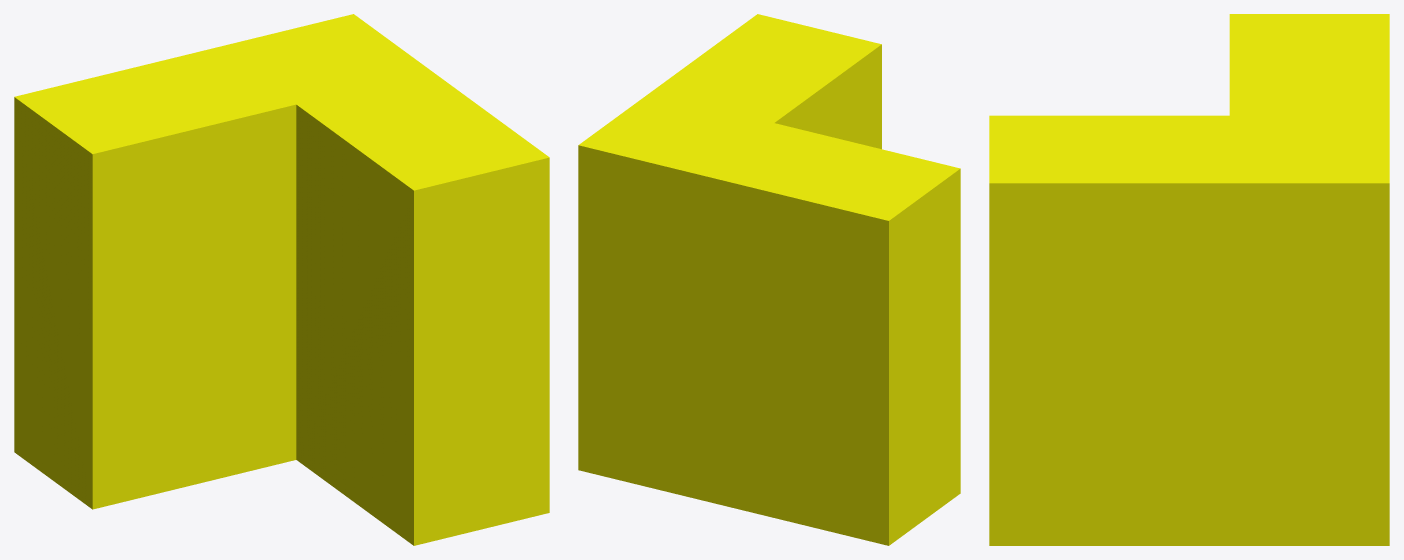
The picture shows the model from 3 angles, left to right: view 1: azimuth 30°, elevation 25°; view 2: azimuth 150°, elevation 25°; view 3: azimuth 270°, elevation 25°; orthographic projection. The views are drawn at different scales.
Parts seen in each view (by area): view 1: 09B.SLDPRT; view 2: 09B.SLDPRT; view 3: 09B.SLDPRT.
Boxes of the visible parts, x1,y1,x2,y2 form: 09B.SLDPRT: (14, 14, 549, 545); 09B.SLDPRT: (578, 14, 960, 545); 09B.SLDPRT: (989, 14, 1389, 545).
Size of the model in its own units: 0.03 by 0.03 by 0.03.
